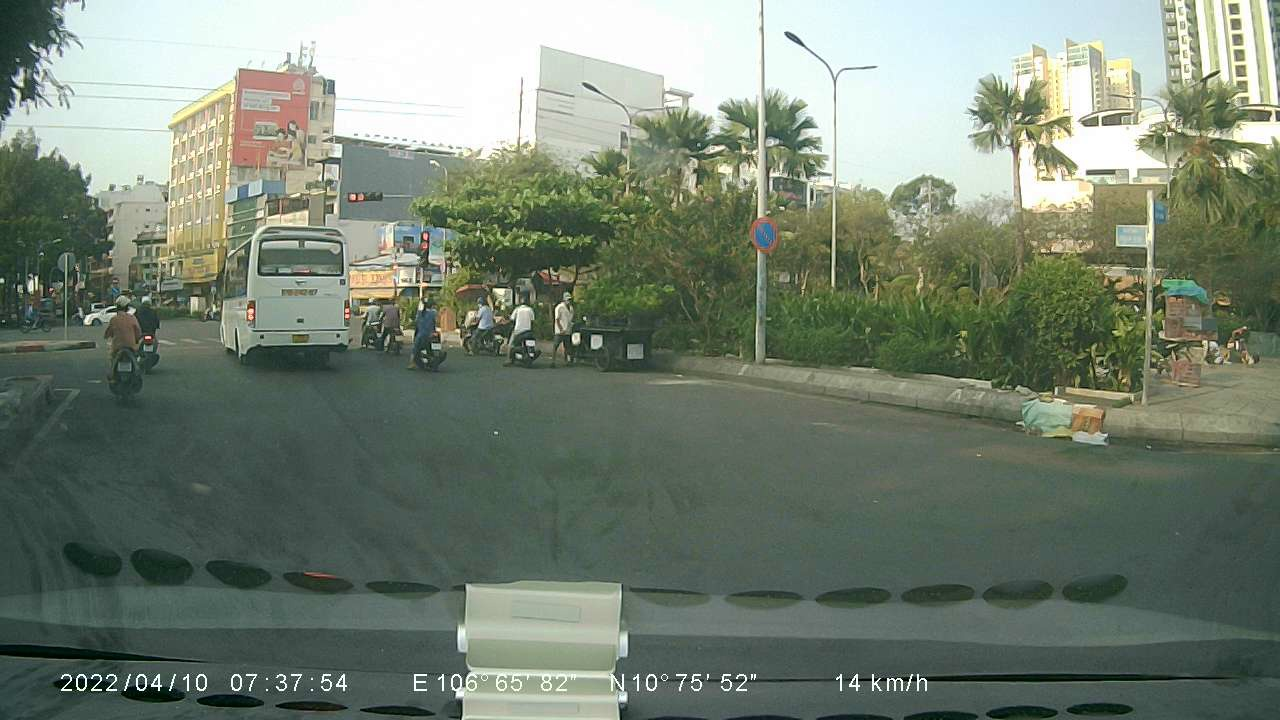Cam do xe: (748, 209, 784, 258)
